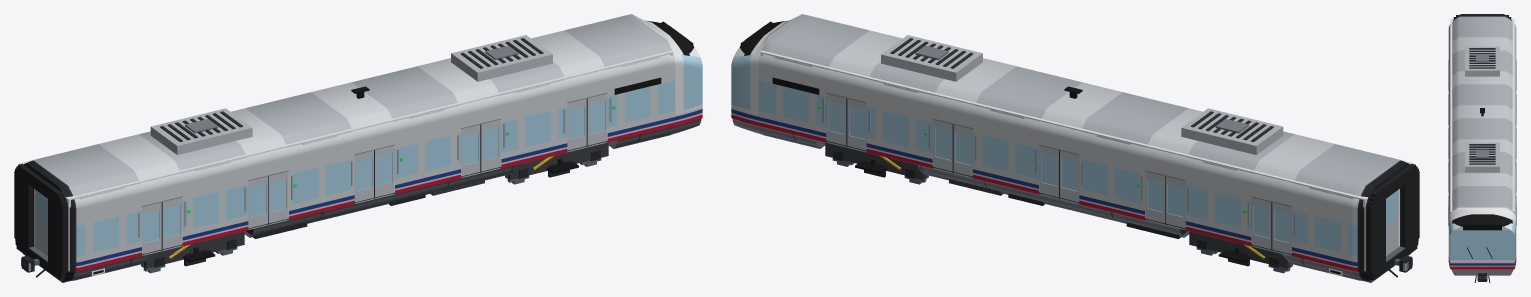
The model's file is mtr_mtrain_front.obj.
The picture shows the model from 3 angles, left to right: view 1: azimuth 30°, elevation 25°; view 2: azimuth 150°, elevation 25°; view 3: azimuth 270°, elevation 25°; orthographic projection. The views are drawn at different scales.
Parts seen in each view (by area): view 1: SHELL, SHELL_roof, SHELL_diaphragm, SHELL_ceiling, BOGEY_REAR, BOGEY_FRONT, FRAME, EXTERNAL_DOOR_9_CG_DR2_TOGGLE_TL_-0.64_X, EXTERNAL_DOOR_21_CG_DR4_TOGGLE_TL_-0.64_X, EXTERNAL_DOOR_4_CG_DR1_TOGGLE_TL_0.64_X, EXTERNAL_DOOR_28_CG_DR5_TOGGLE_TL_0.64_X, EXTERNAL_DOOR_27_CG_DR5_TOGGLE_TL_-0.64_X (+8 smaller); view 2: SHELL, SHELL_roof, SHELL_diaphragm, SHELL_ceiling, BOGEY_REAR, BOGEY_FRONT, FRAME, EXTERNAL_DOOR_12_CG_DL2_TOGGLE_TL_-0.64_X, EXTERNAL_DOOR_24_CG_DL4_TOGGLE_TL_-0.64_X, EXTERNAL_DOOR_7_CG_DL1_TOGGLE_TL_0.64_X, EXTERNAL_DOOR_31_CG_DL5_TOGGLE_TL_0.64_X, EXTERNAL_DOOR_30_CG_DL5_TOGGLE_TL_-0.64_X (+8 smaller); view 3: SHELL, SHELL_roof, SHELL_ceiling, SHELL_handle, SHELL_destbox, FRAME.
Part boxes in pixels (left/top/right/bottom): SHELL: left=23, top=14, right=702, bottom=282; SHELL_roof: left=150, top=35, right=552, bottom=154; SHELL_diaphragm: left=14, top=163, right=66, bottom=280; SHELL_ceiling: left=21, top=17, right=670, bottom=199; BOGEY_REAR: left=143, top=231, right=244, bottom=268; BOGEY_FRONT: left=507, top=142, right=608, bottom=179; FRAME: left=21, top=141, right=607, bottom=277; EXTERNAL_DOOR_9_CG_DR2_TOGGLE_TL_-0.64_X: left=248, top=176, right=268, bottom=228; EXTERNAL_DOOR_21_CG_DR4_TOGGLE_TL_-0.64_X: left=461, top=124, right=481, bottom=176; EXTERNAL_DOOR_4_CG_DR1_TOGGLE_TL_0.64_X: left=162, top=197, right=182, bottom=249; EXTERNAL_DOOR_28_CG_DR5_TOGGLE_TL_0.64_X: left=587, top=93, right=607, bottom=145; EXTERNAL_DOOR_27_CG_DR5_TOGGLE_TL_-0.64_X: left=567, top=98, right=587, bottom=150; SHELL: left=731, top=14, right=1410, bottom=282; SHELL_roof: left=881, top=35, right=1283, bottom=154; SHELL_diaphragm: left=1367, top=163, right=1419, bottom=280; SHELL_ceiling: left=763, top=17, right=1412, bottom=199; BOGEY_REAR: left=1189, top=231, right=1290, bottom=268; BOGEY_FRONT: left=825, top=142, right=926, bottom=179; FRAME: left=826, top=141, right=1412, bottom=277; EXTERNAL_DOOR_12_CG_DL2_TOGGLE_TL_-0.64_X: left=1165, top=176, right=1185, bottom=228; EXTERNAL_DOOR_24_CG_DL4_TOGGLE_TL_-0.64_X: left=952, top=124, right=972, bottom=176; EXTERNAL_DOOR_7_CG_DL1_TOGGLE_TL_0.64_X: left=1251, top=197, right=1271, bottom=249; EXTERNAL_DOOR_31_CG_DL5_TOGGLE_TL_0.64_X: left=826, top=93, right=846, bottom=145; EXTERNAL_DOOR_30_CG_DL5_TOGGLE_TL_-0.64_X: left=846, top=98, right=866, bottom=150; SHELL: left=1448, top=14, right=1516, bottom=275; SHELL_roof: left=1465, top=46, right=1499, bottom=172; SHELL_ceiling: left=1450, top=19, right=1514, bottom=210; SHELL_handle: left=1448, top=60, right=1516, bottom=226; SHELL_destbox: left=1463, top=224, right=1501, bottom=230; FRAME: left=1474, top=271, right=1490, bottom=282.
Size of the model in its own units: 23.24 by 4.06 by 3.14.
1 material, 1 textured.
